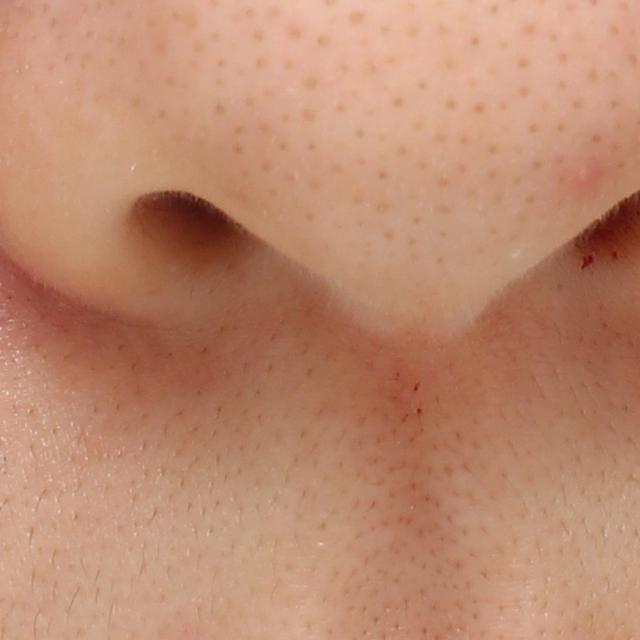papule: (576, 159, 604, 192)
